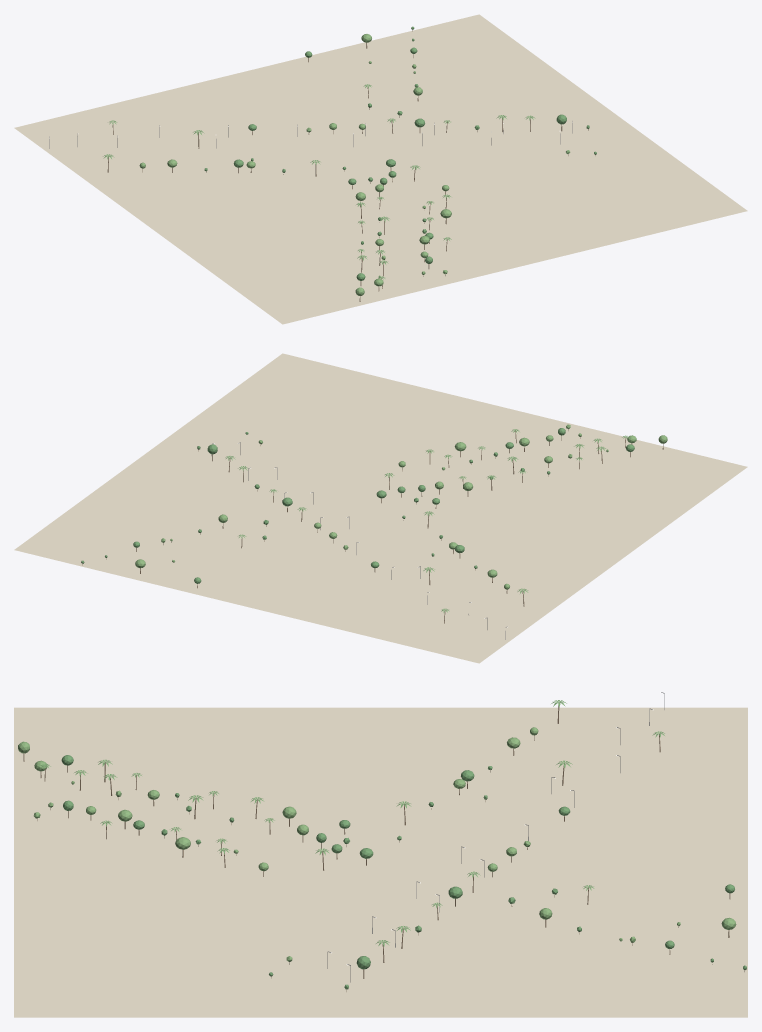
The model's file is nature_-4_-3.glb.
The picture shows the model from 3 angles, top to bottom: view 1: azimuth 30°, elevation 25°; view 2: azimuth 150°, elevation 25°; view 3: azimuth 270°, elevation 25°; orthographic projection. The views are drawn at different scales.
Parts seen in each view (by area): view 1: ground, foliage_b, foliage_a, palm_leaf, trunk; view 2: ground, foliage_b, foliage_a, palm_leaf, trunk; view 3: ground, foliage_b, foliage_a, palm_leaf, trunk.
Boxes of the visible parts, x1,y1,x2,y2 form: ground: (14, 14, 747, 324); foliage_b: (139, 34, 570, 295); foliage_a: (204, 26, 596, 280); palm_leaf: (103, 84, 535, 279); trunk: (107, 30, 595, 301); ground: (14, 353, 747, 663); foliage_b: (135, 424, 667, 589); foliage_a: (81, 428, 634, 583); palm_leaf: (225, 429, 628, 612); trunk: (82, 429, 663, 623); ground: (14, 707, 747, 1017); foliage_b: (18, 727, 736, 961); foliage_a: (61, 755, 746, 989); palm_leaf: (40, 700, 664, 946); trunk: (23, 705, 744, 991).
Size of the model in its own units: 250 by 8.71 by 250.
